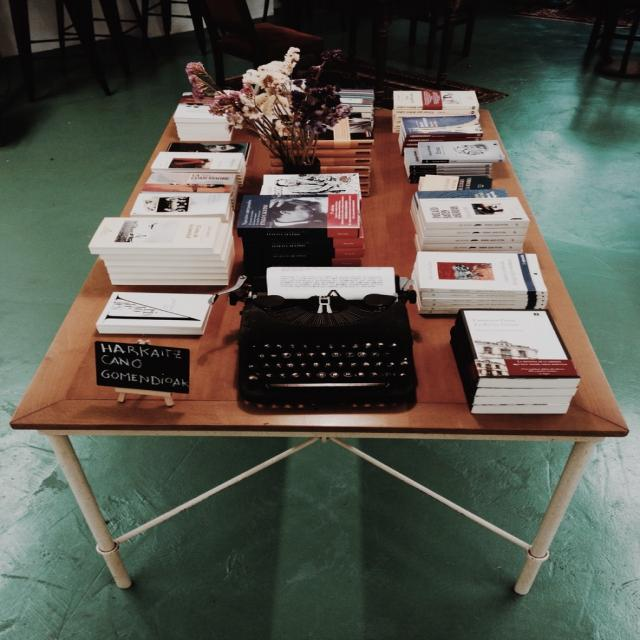chair: (188, 1, 324, 88), (3, 1, 118, 101), (373, 0, 477, 83)
desk: (0, 101, 625, 564)
